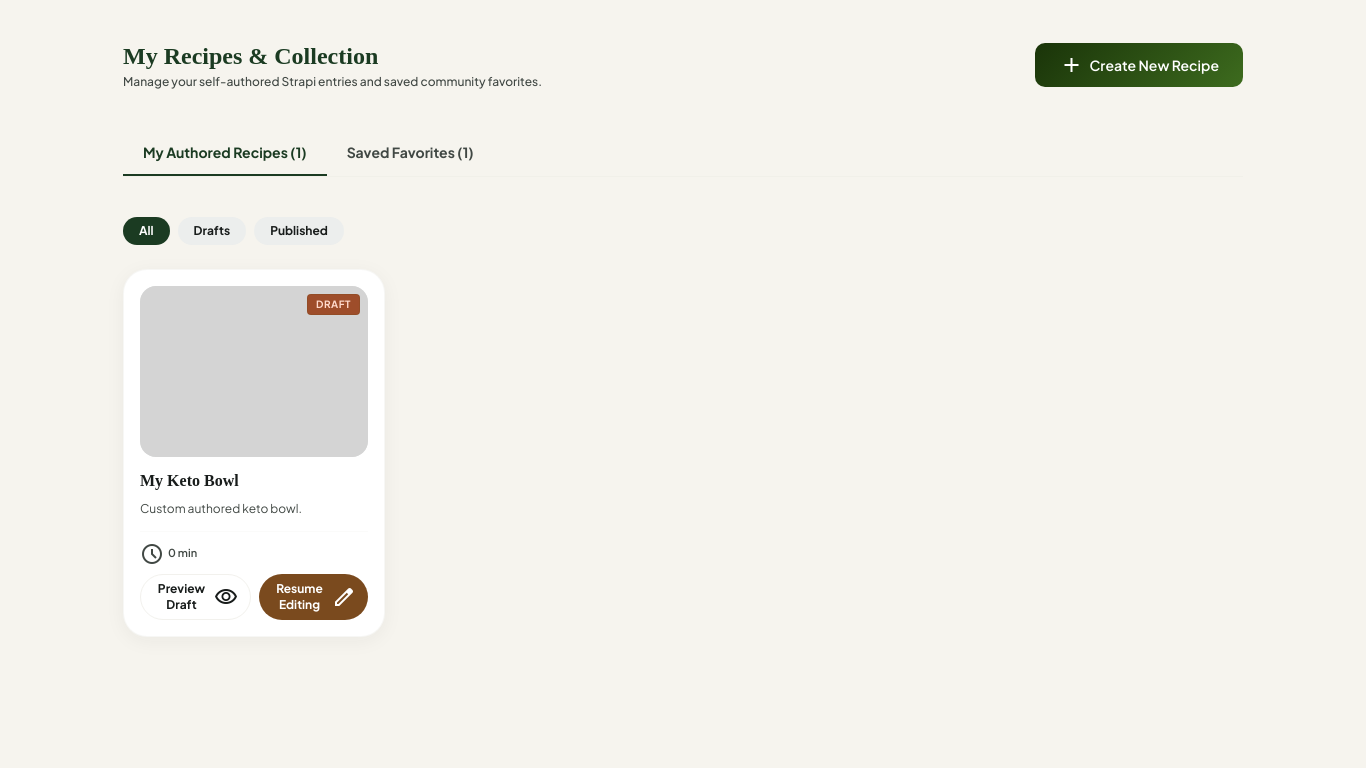
it: MyRecipes page › switches to Favorites tab and shows favorited recipes
The image size is (1366, 768).
Click the button "Saved Favorites (1)".
click(410, 153)  # box [327,130,494,176]
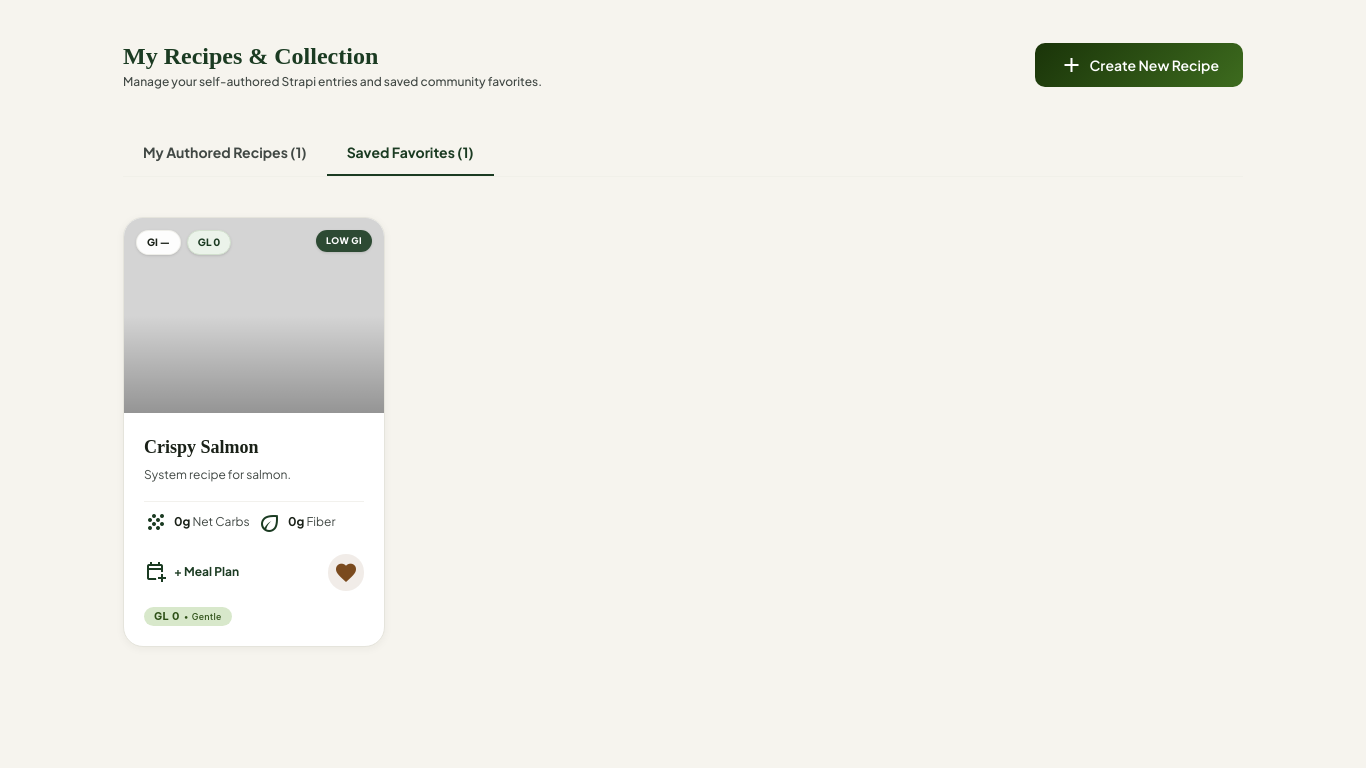
expect the heading "Crispy Salmon" is shown: met, box [144,437,258,457]
